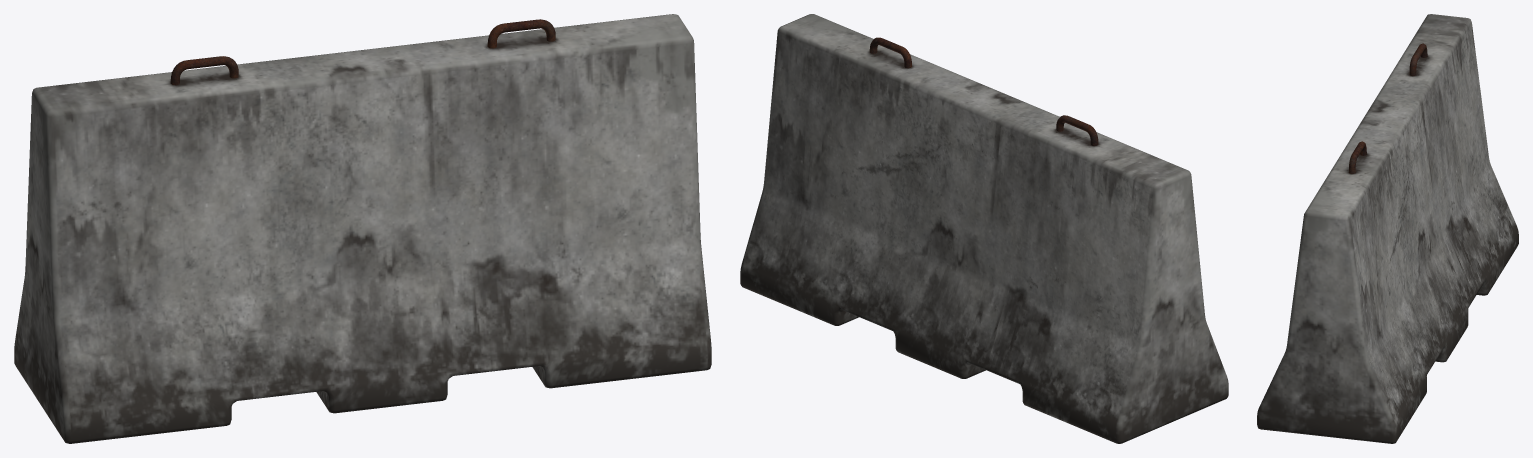
File: jersey.glb
3 renders of one model, left to right at view 1: azimuth 30°, elevation 25°; view 2: azimuth 150°, elevation 25°; view 3: azimuth 270°, elevation 25°, orthographic. The views are drawn at different scales.
Parts seen in each view (by area): view 1: jersey; view 2: jersey; view 3: jersey.
Boxes of the visible parts, box(x1,y1,x2,y2) form: jersey: box(14, 14, 711, 443); jersey: box(740, 14, 1228, 443); jersey: box(1257, 14, 1518, 443).
Size of the model in its own units: 1.76 by 0.9141 by 0.9055.
2 materials, 2 textured.
